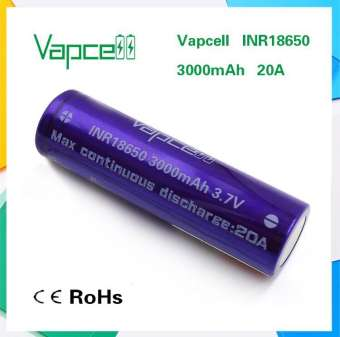Battery: (33, 85, 314, 286)
